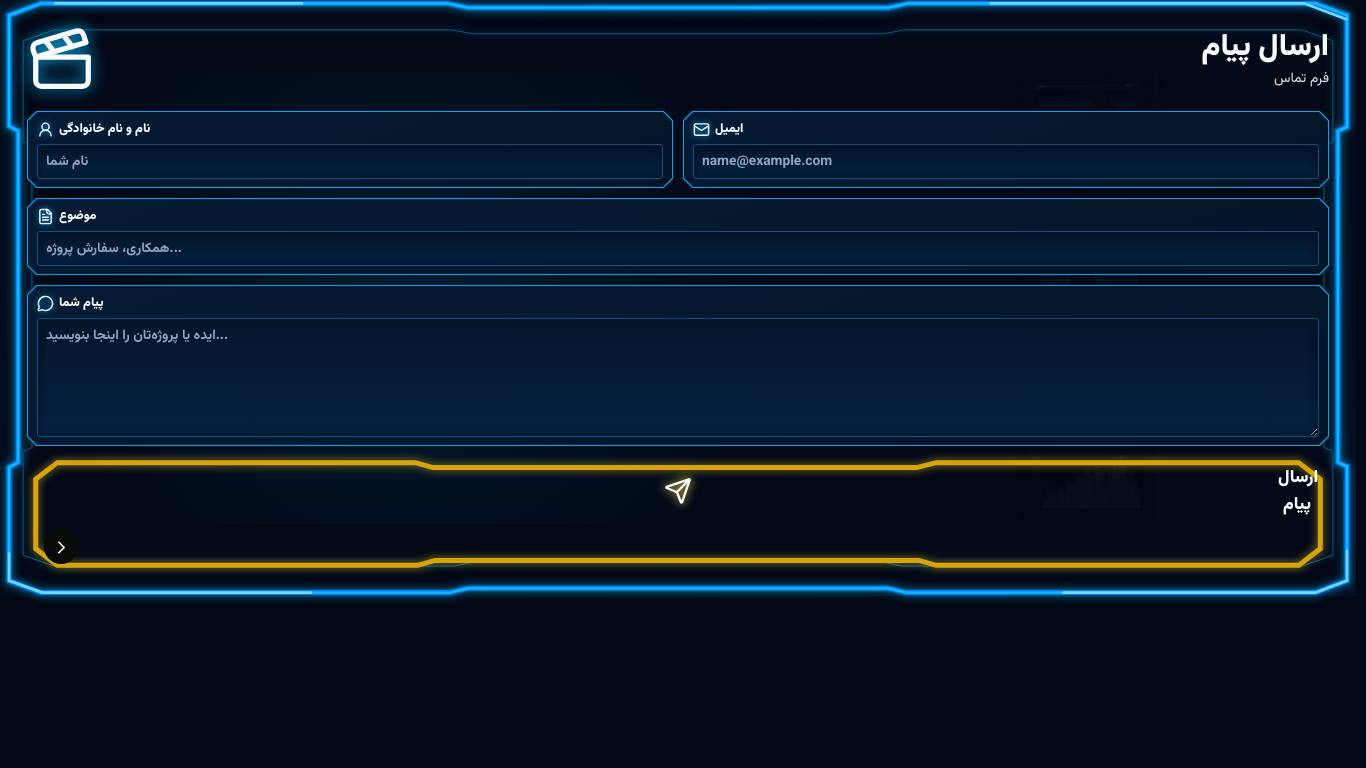
contact message behavior › keeps input available for retry after {"code":"SERVER_ERROR","details":{},"status":500}
The width and height of the screenshot is (1366, 768).
Type "Test Editor" into the field labelled "نام و نام خانوادگی" at (350, 162), box [37, 144, 663, 179]
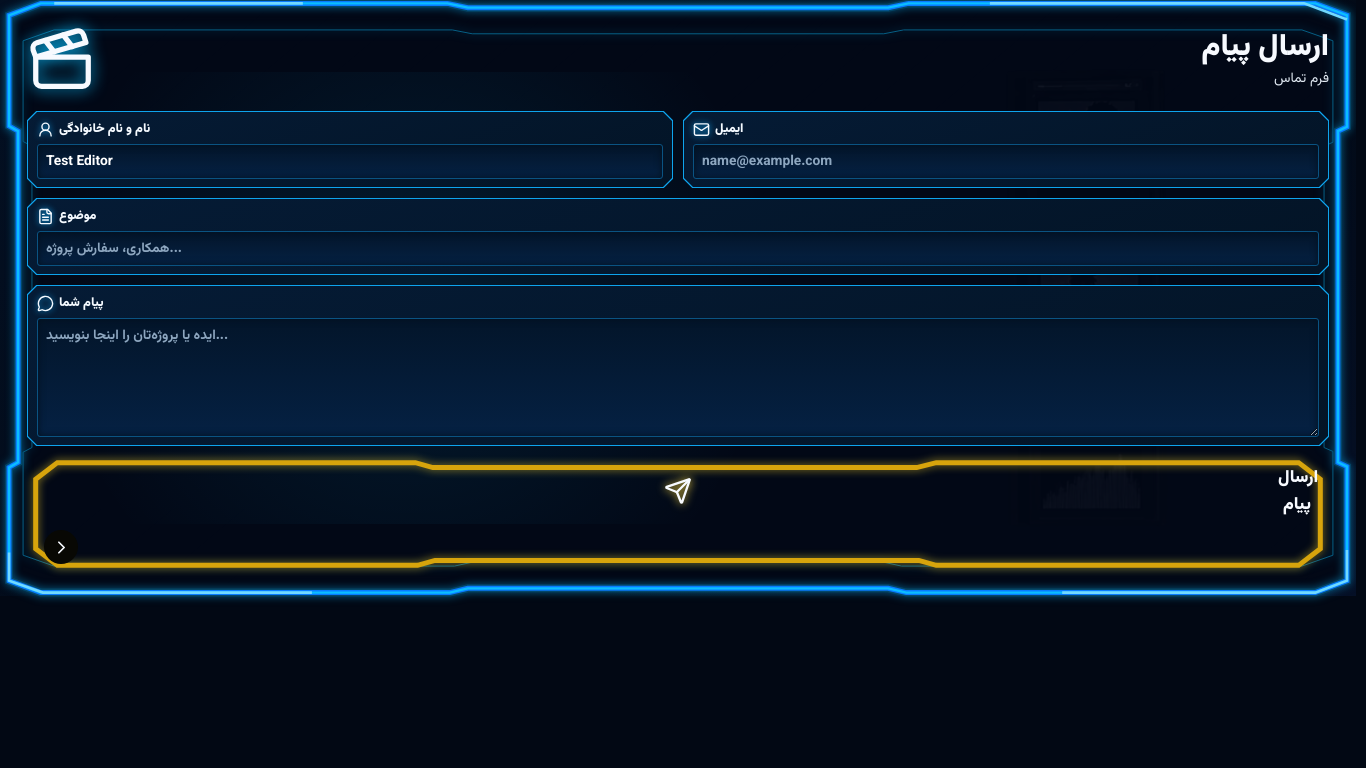
Type "test@example.com" into the field labelled "ایمیل" at (1006, 162), box [693, 144, 1319, 179]
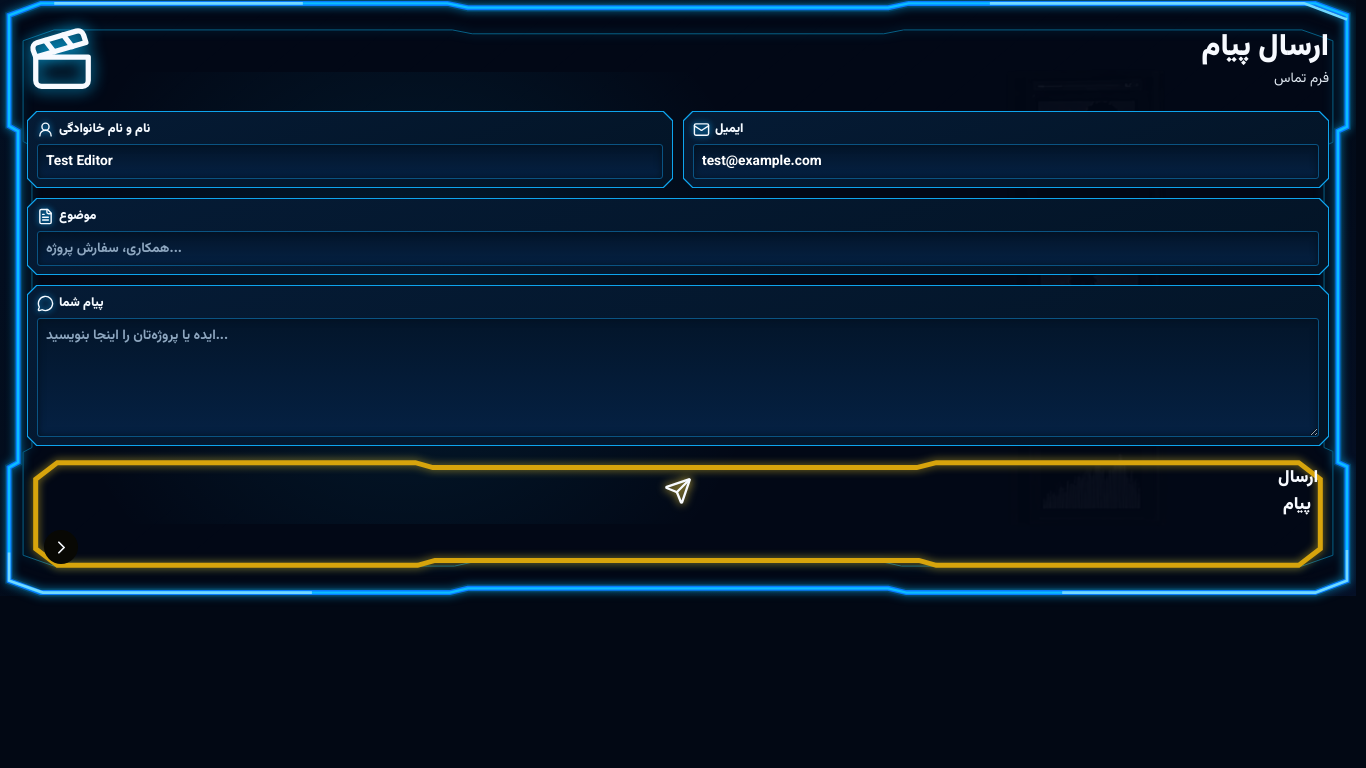
Type "Project request" into the field labelled "موضوع" at (678, 248), box [37, 231, 1319, 266]
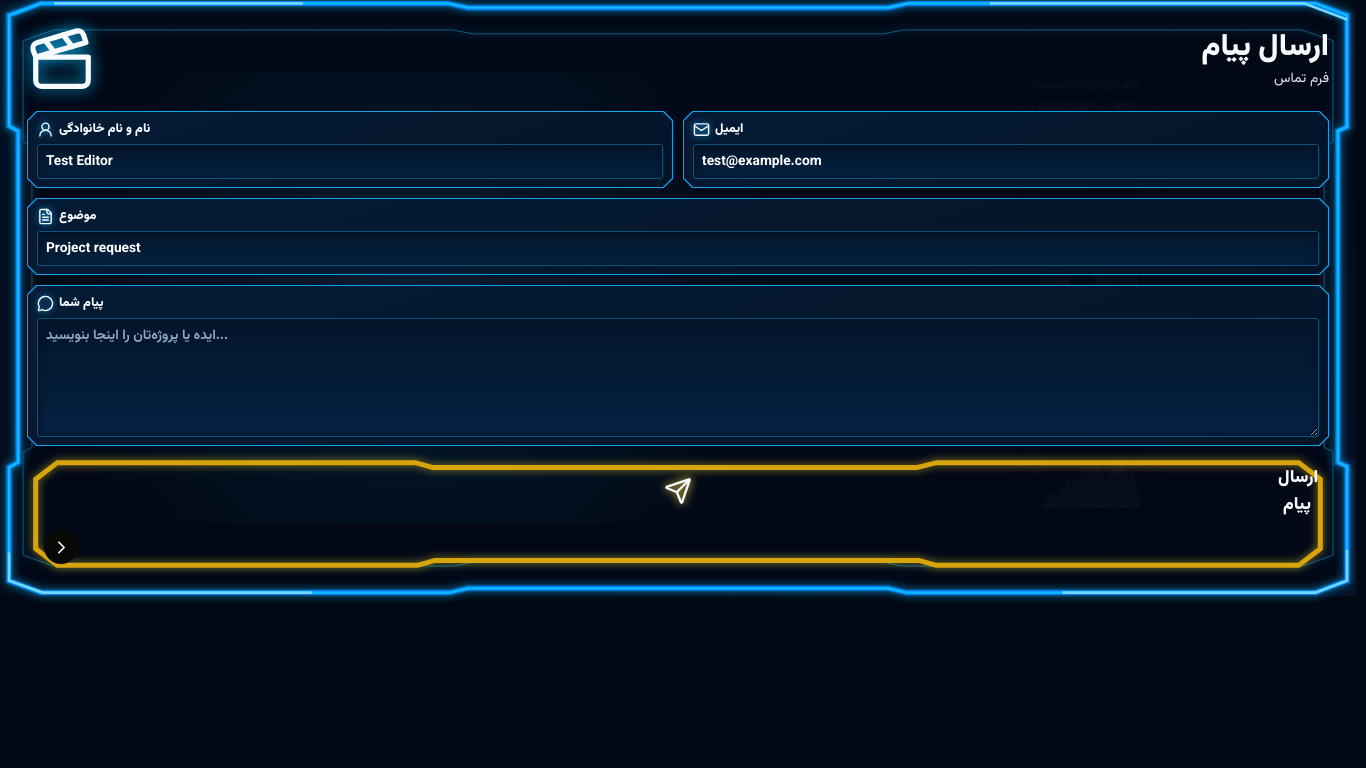
Type "Please edit a sample video project." into the text box labelled "پیام شما" at (678, 378), box [37, 318, 1319, 437]
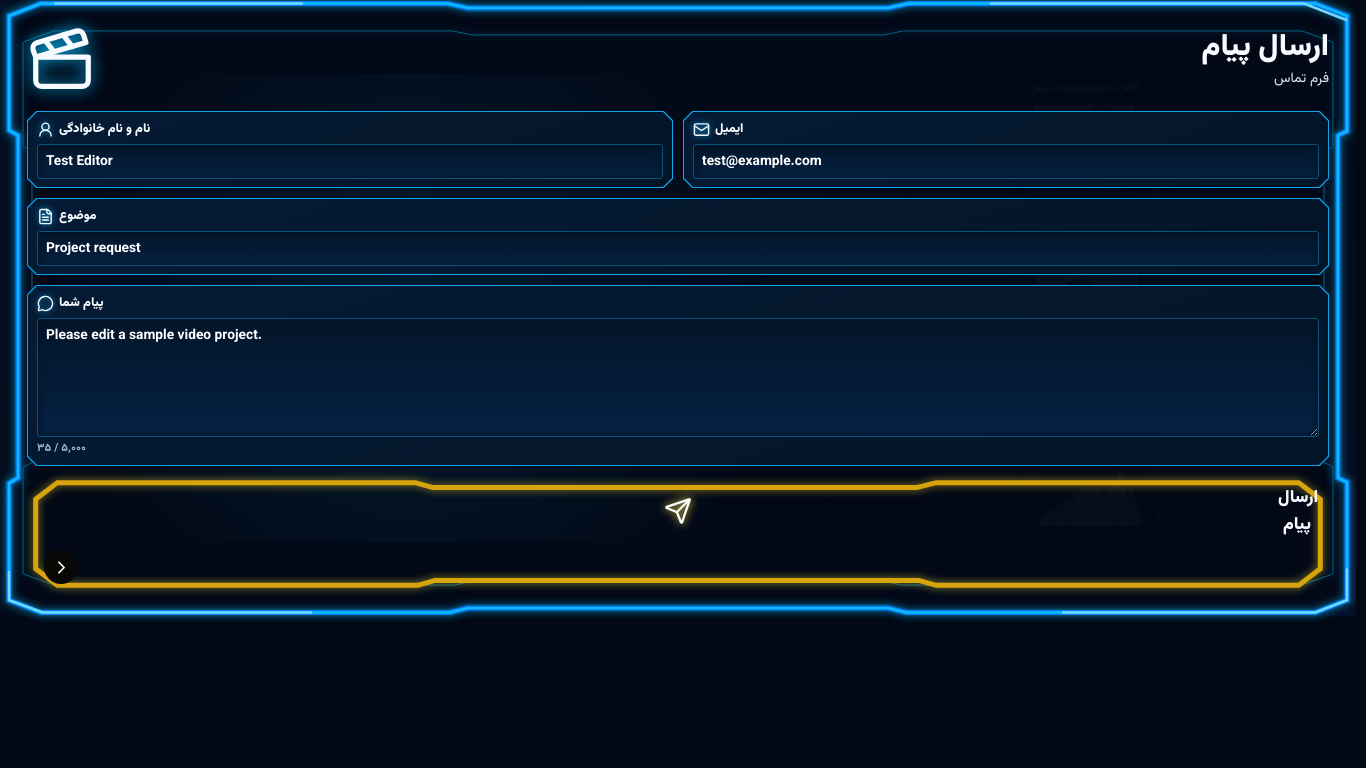
Click the button "ارسال پیام" at (678, 534), box [27, 476, 1329, 592]
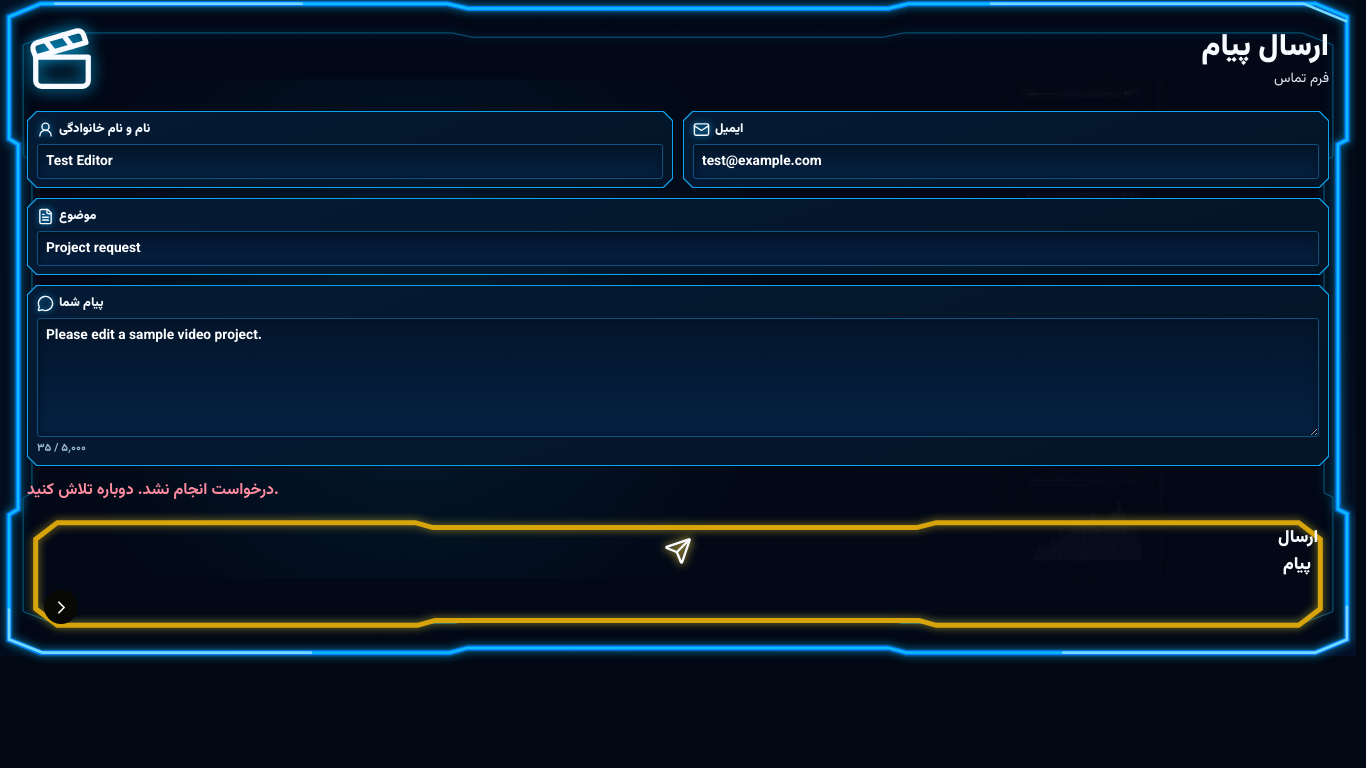
expect the button "ارسال پیام" is enabled: met, box [27, 516, 1329, 632]
expect the text "درخواست انجام نشد. دوباره تلاش کنید." is shown: met, box [27, 478, 279, 503]
